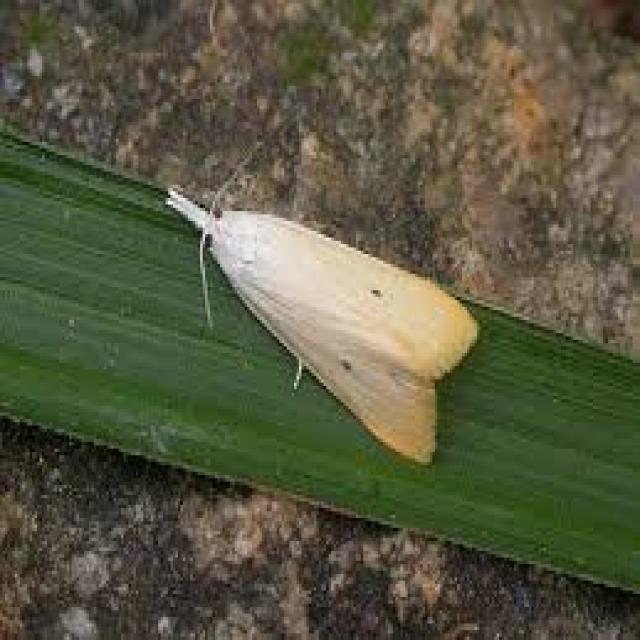yellow-stem-borer: (103, 87, 514, 500)
